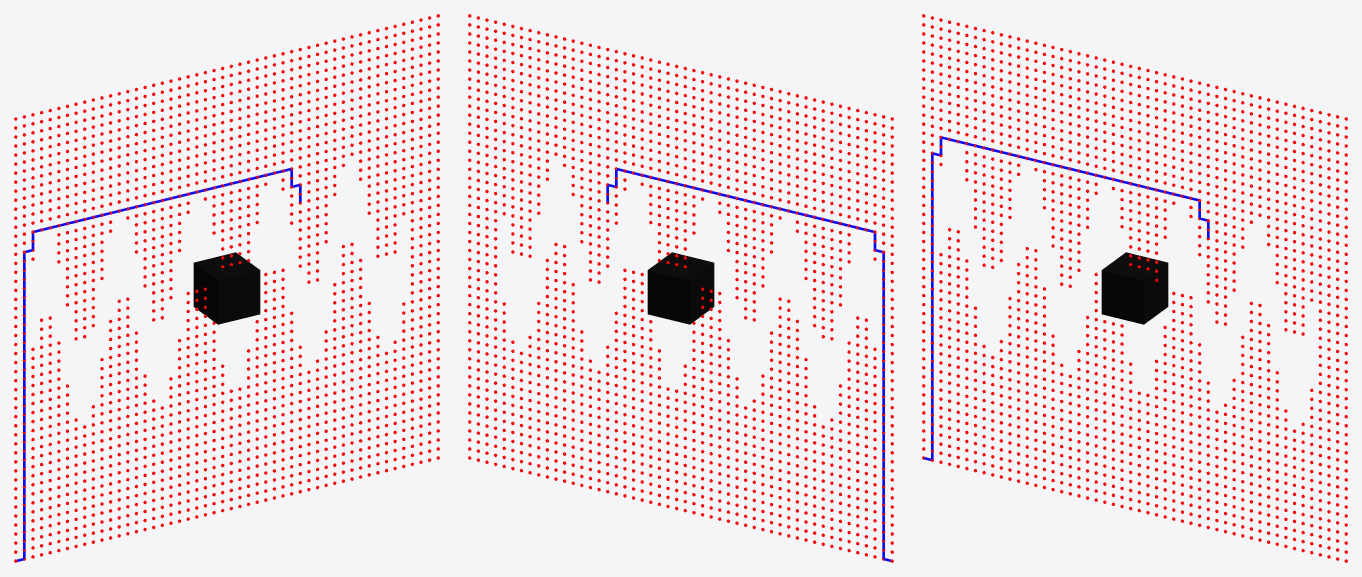
File: BeforePathFinding.glb
The picture shows the model from 3 angles, left to right: view 1: azimuth 30°, elevation 25°; view 2: azimuth 150°, elevation 25°; view 3: azimuth 330°, elevation 25°; orthographic projection.
Size of the model in its own units: 1.01 by 1.01 by 0.1.
